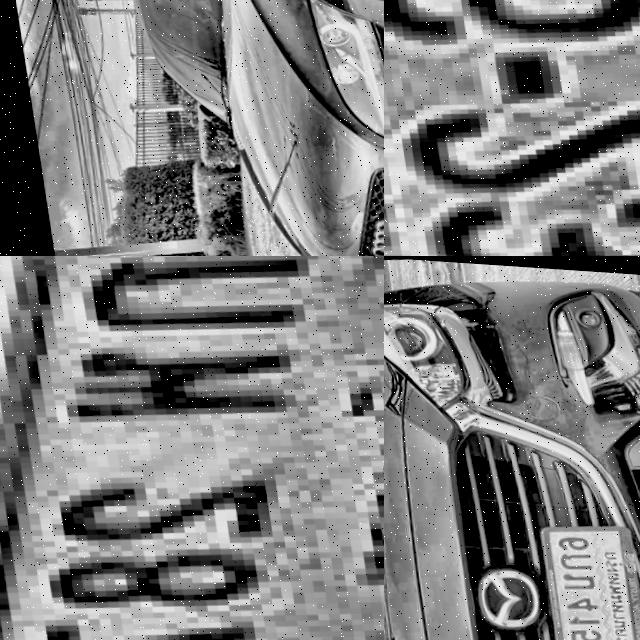license-plate: (0, 256, 384, 640), (384, 0, 640, 256), (533, 509, 640, 640)
